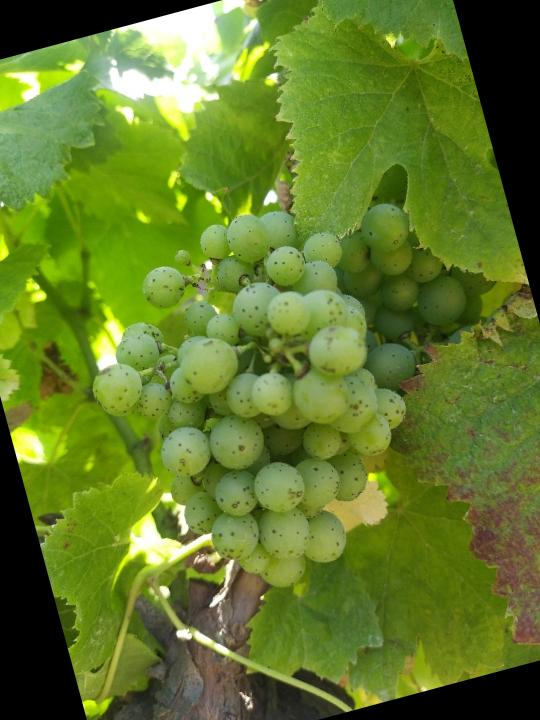grape: (59, 183, 449, 625)
